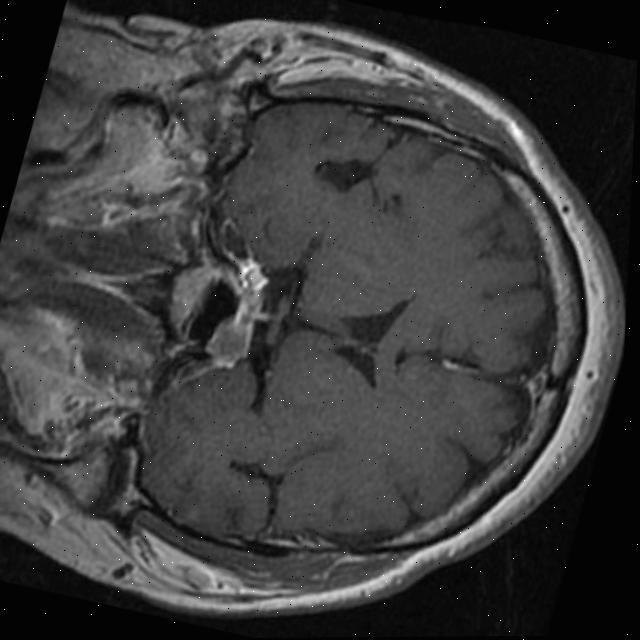Pituitary: (200, 255, 273, 373), (154, 250, 228, 353)
